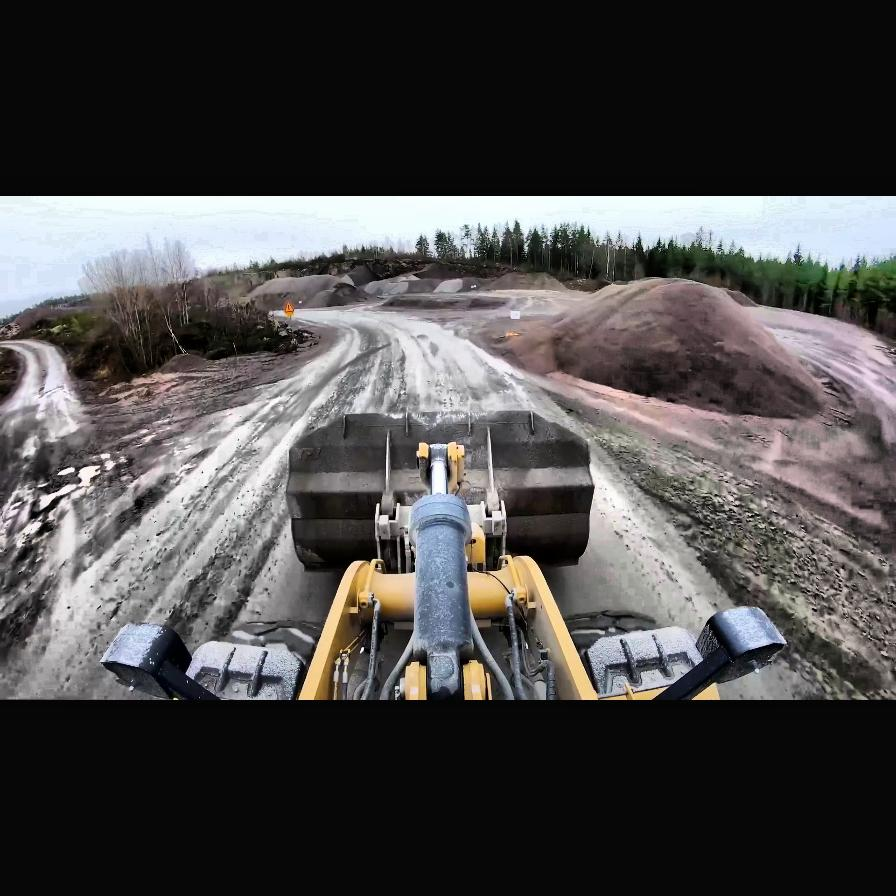anchor: (418, 442, 464, 496)
pile of gravel: (491, 277, 838, 421), (247, 274, 365, 310), (395, 262, 483, 288), (374, 294, 504, 310), (477, 271, 560, 291), (335, 264, 390, 290), (371, 278, 441, 294)
